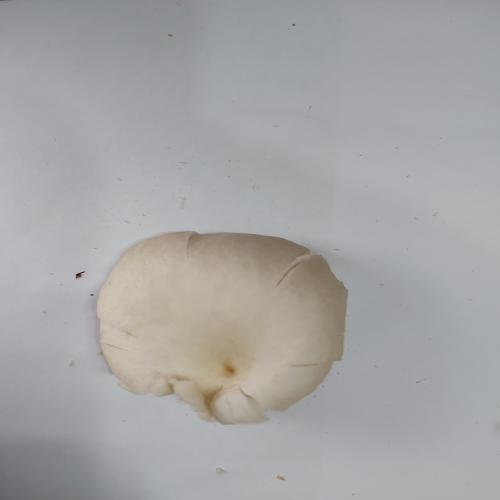Oyster Mushroom: (95, 230, 349, 426)
